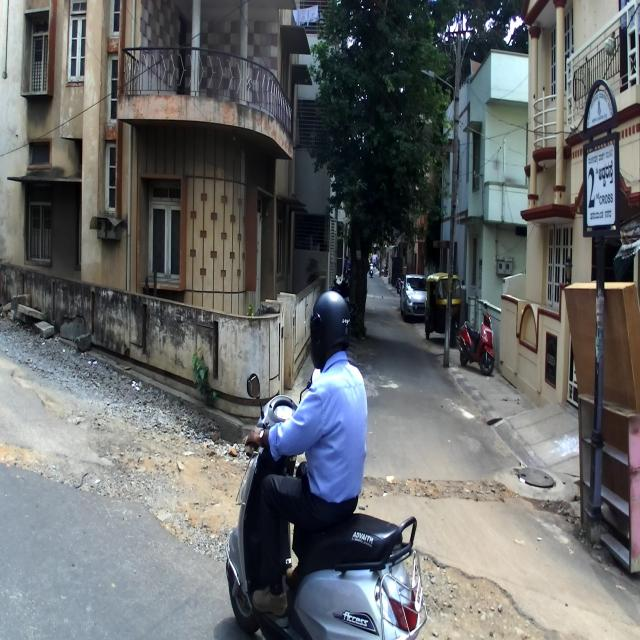scooter: (226, 371, 427, 638), (457, 301, 495, 374)
